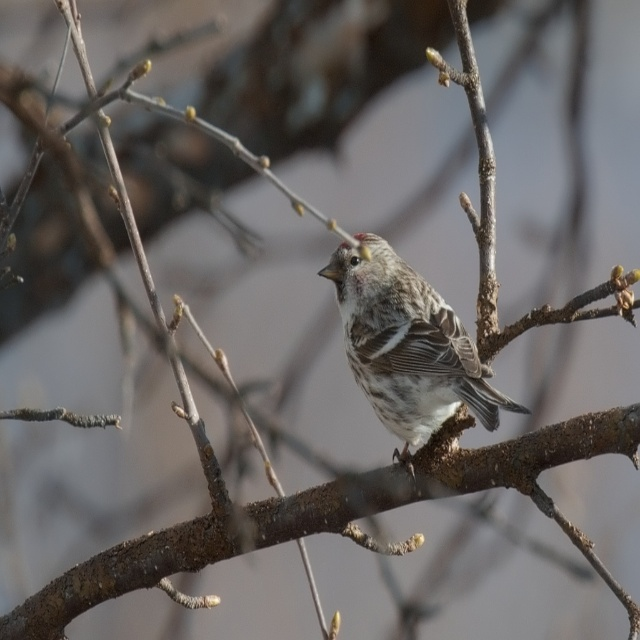Sparrow: (319, 233, 529, 461)
